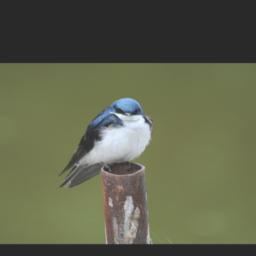Swallow: (56, 97, 154, 189)
